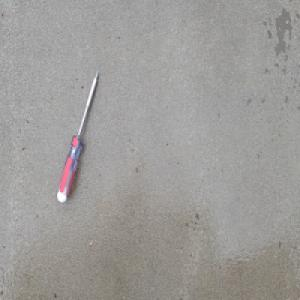Screwdriver: (55, 68, 100, 204)
